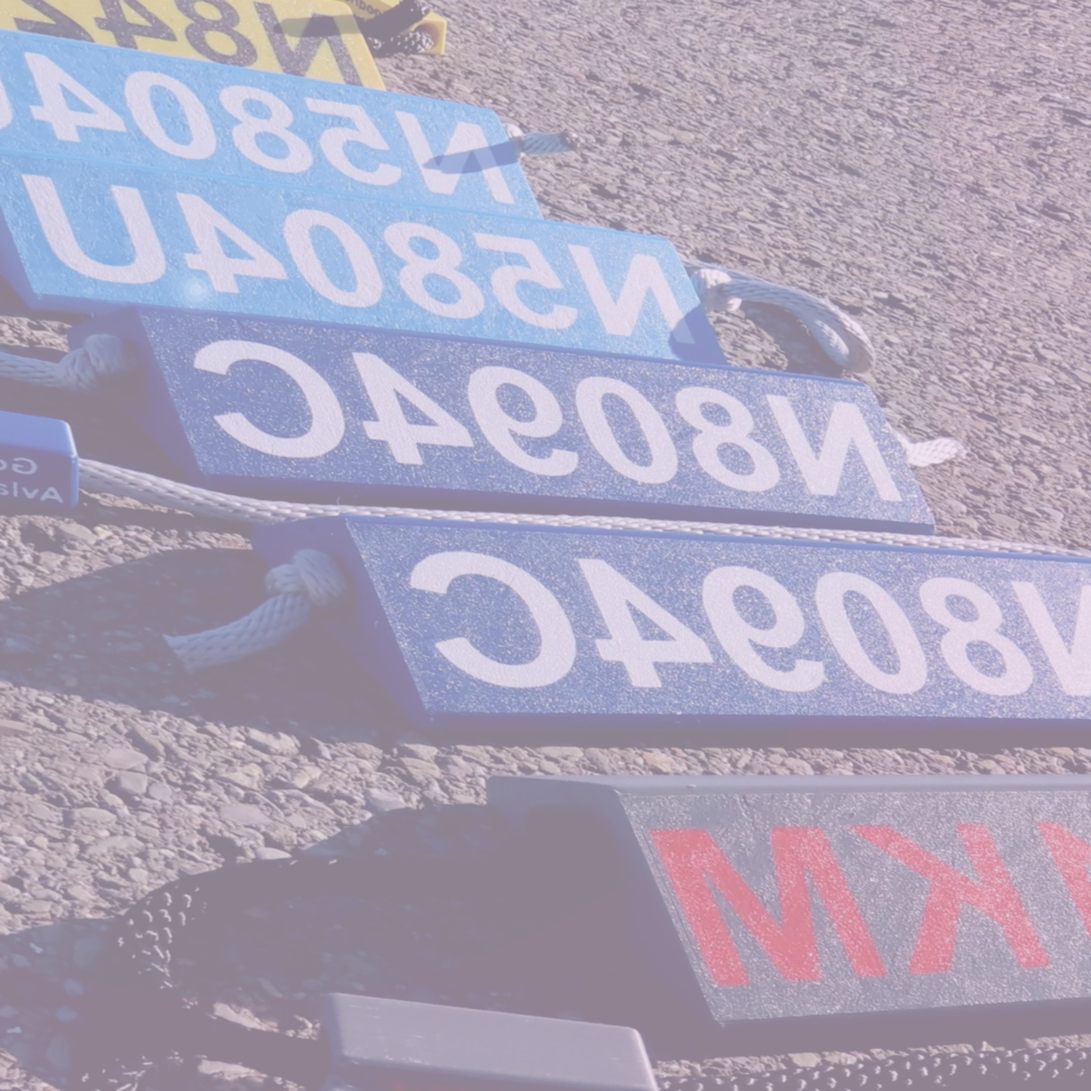chock: (193, 296, 1091, 956), (15, 137, 973, 703), (0, 11, 758, 520), (428, 546, 1091, 1091), (0, 0, 582, 353), (0, 0, 436, 211)
